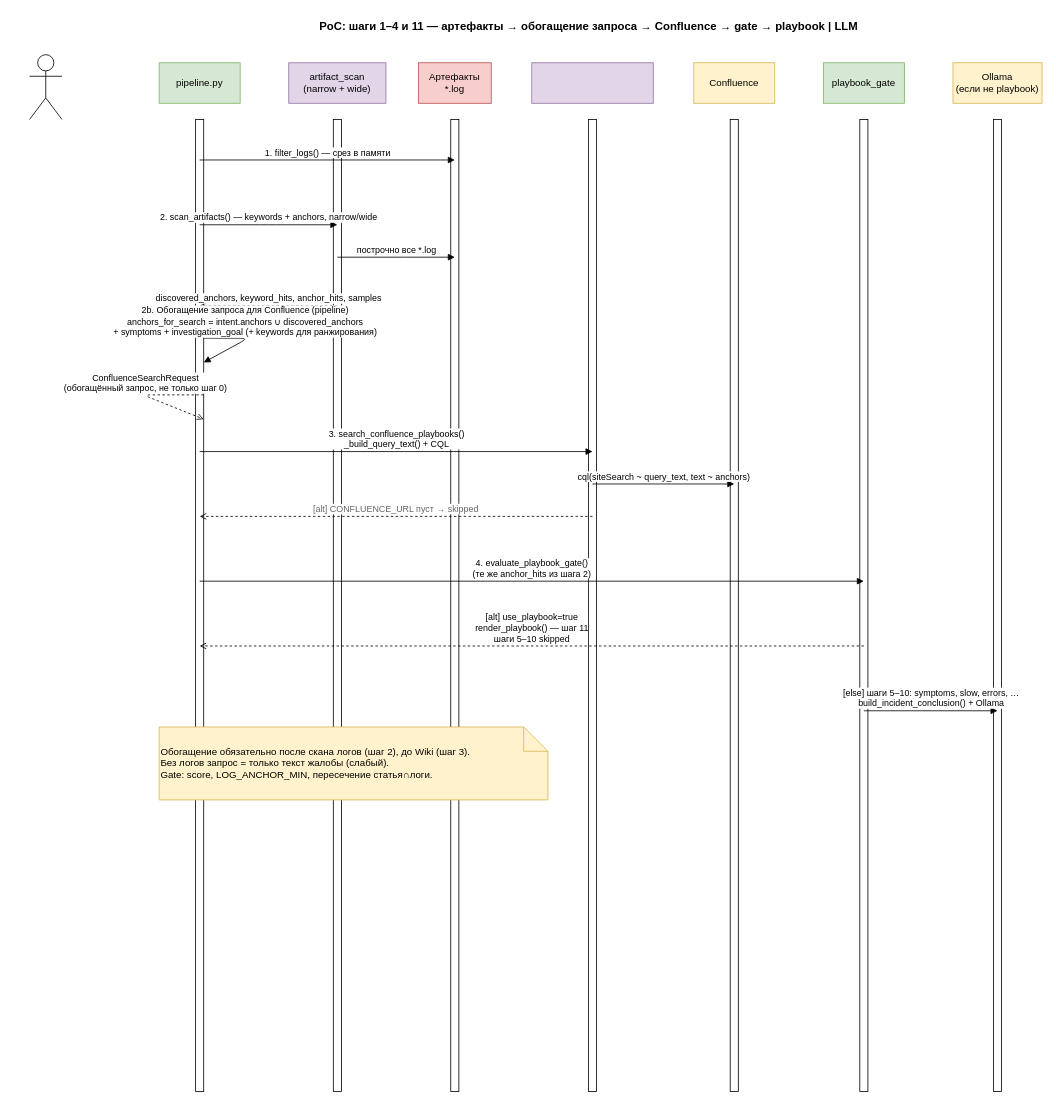
This 1056x1106 diagram has some shape labels left out. Here are the shapes that lost their labels. From the top down, the centre of each, then its label:
At (x=45, y=86): "Пользователь".
At (x=592, y=82): "confluence_search atlassian-python-api".
